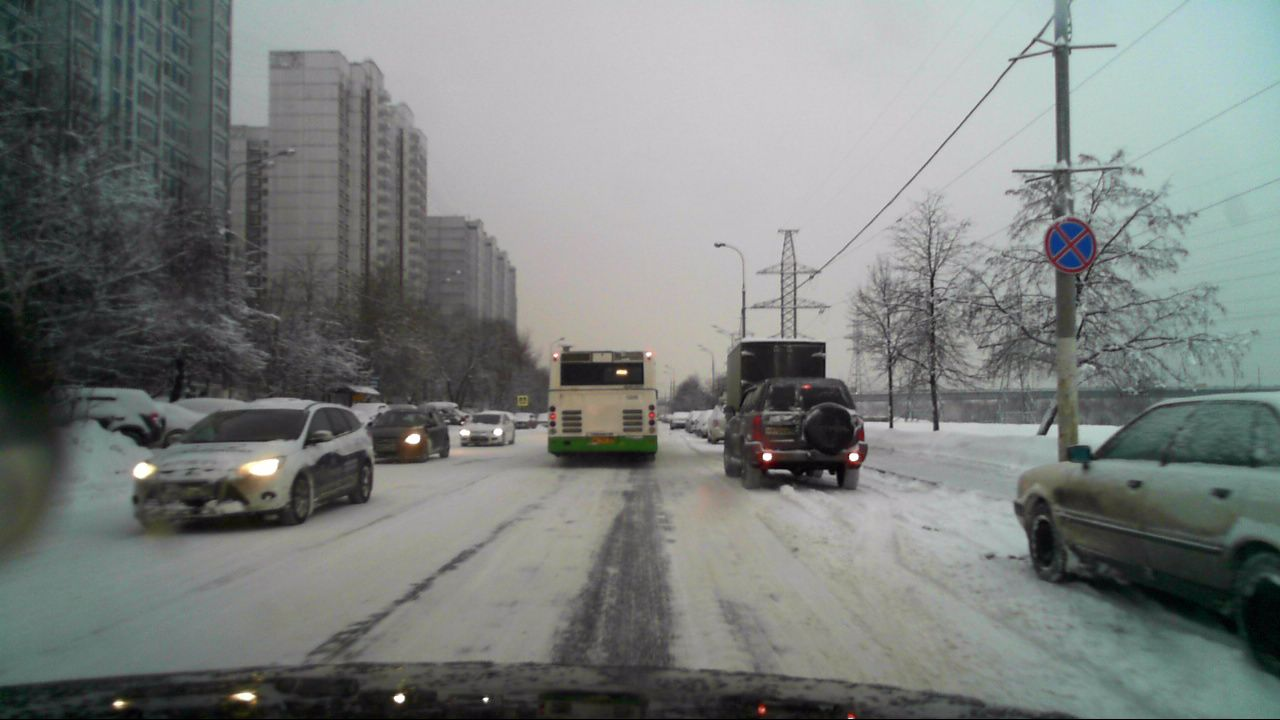No Parking: (1043, 212, 1098, 275)
